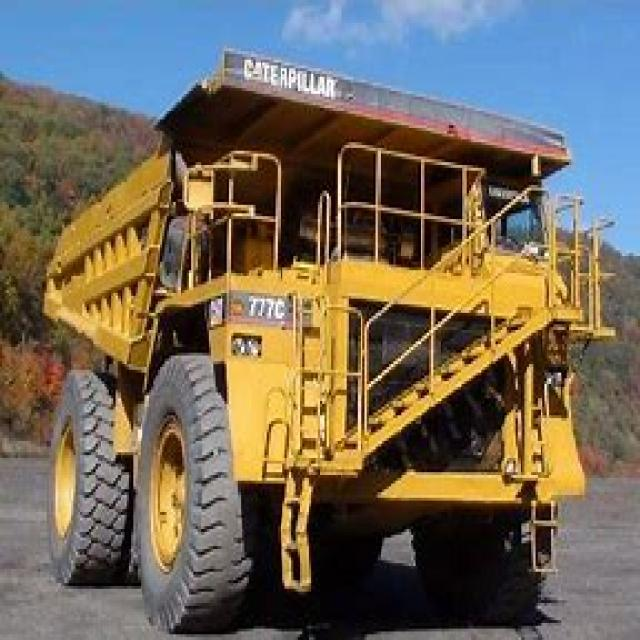dump_truck: (26, 40, 586, 626)
